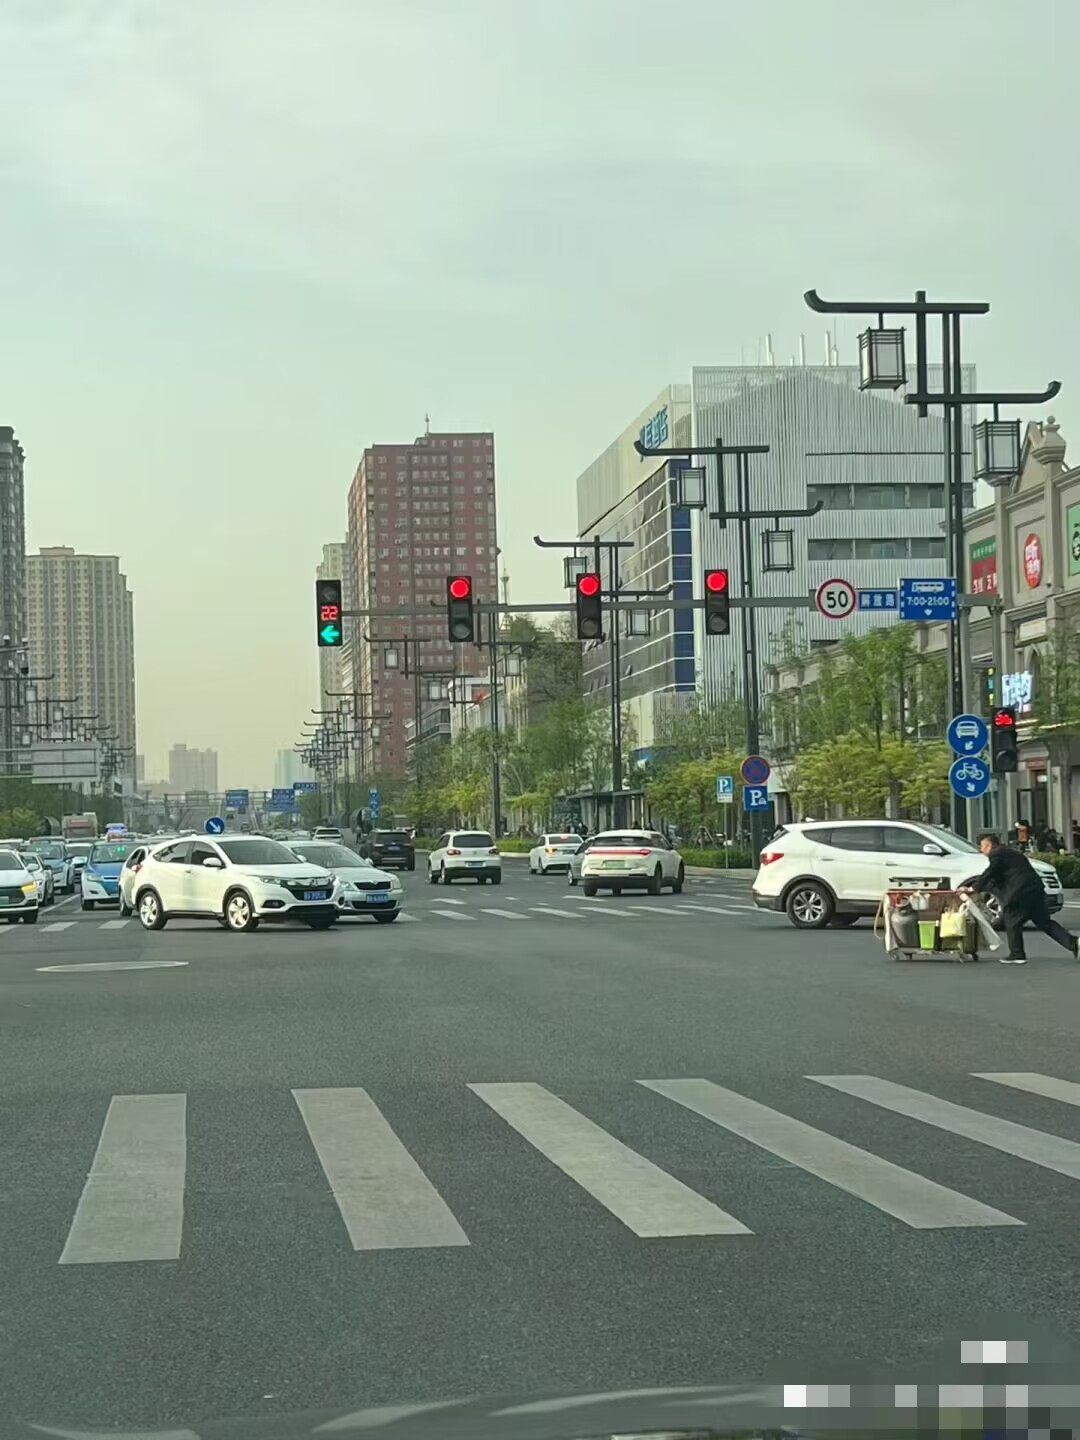i5: (200, 818, 226, 835)
pl50: (815, 576, 857, 616)
